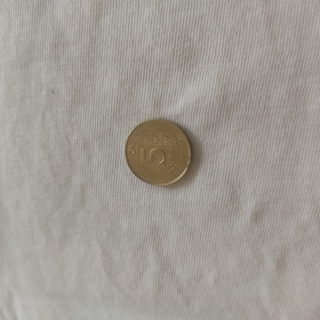5KURUS: (123, 117, 193, 188)
